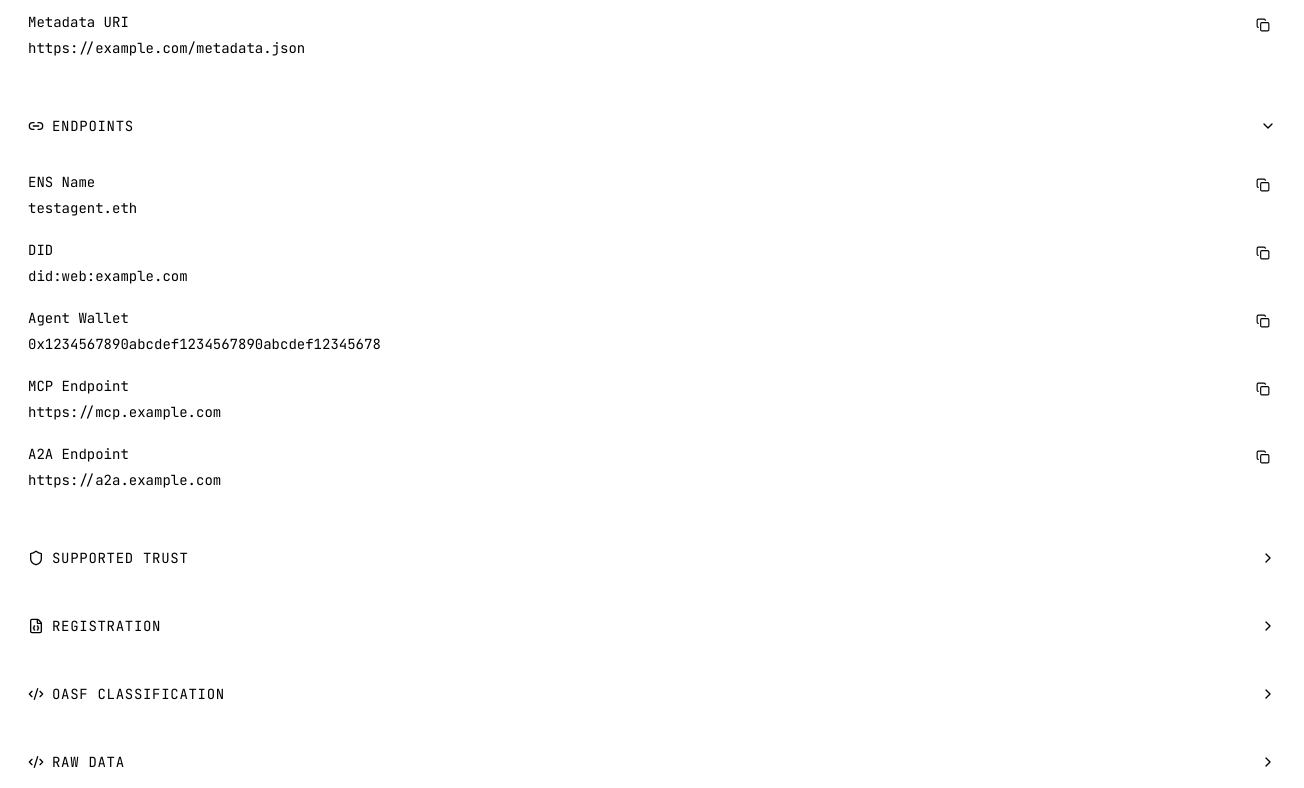
AgentMetadata › OASF section › displays OASF data as JSON
(page scrolled)
What coordinates should you click on to do the following:
click the button "OASF Classification"
I would click on:
 (138, 694)
Its box is [12,668,1292,720].
(page scrolled)
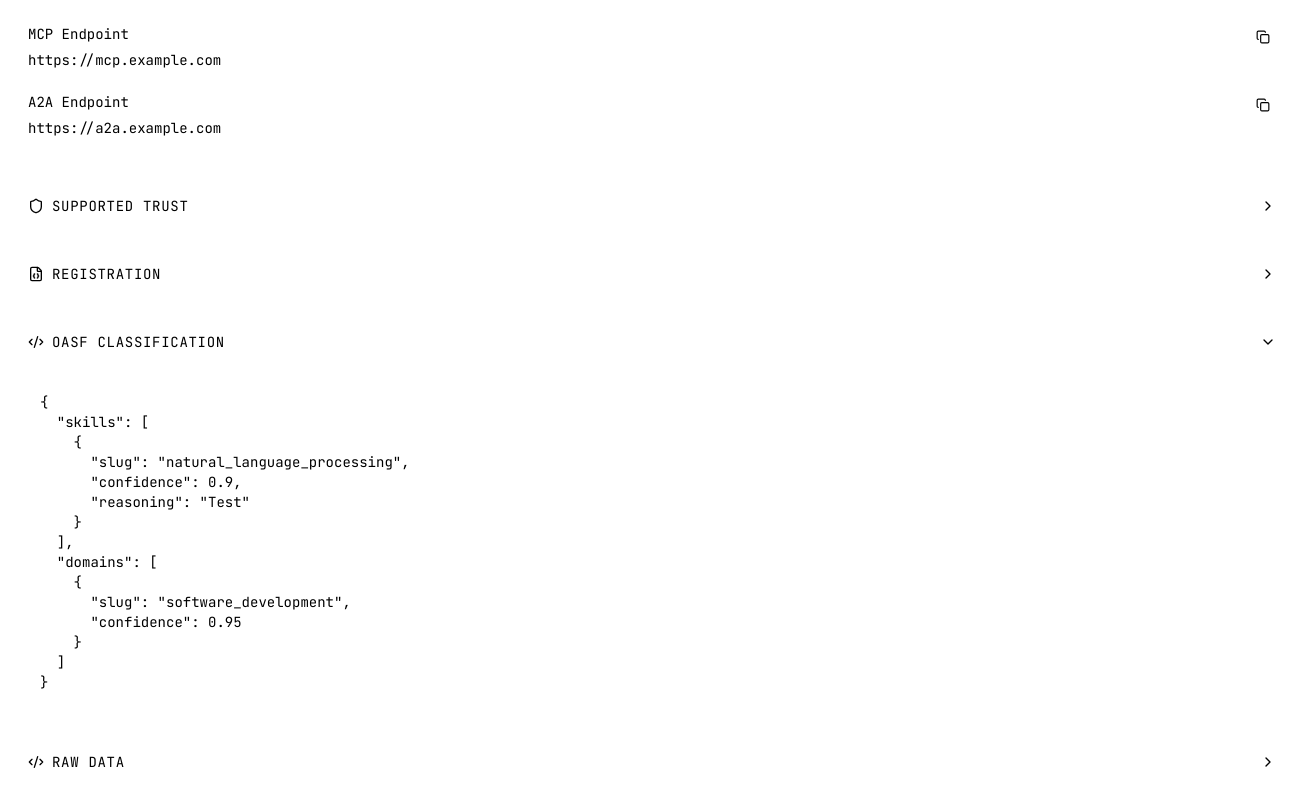
Expected: the text "\"natural_language_processing\"" is shown, [40,393,410,691]
